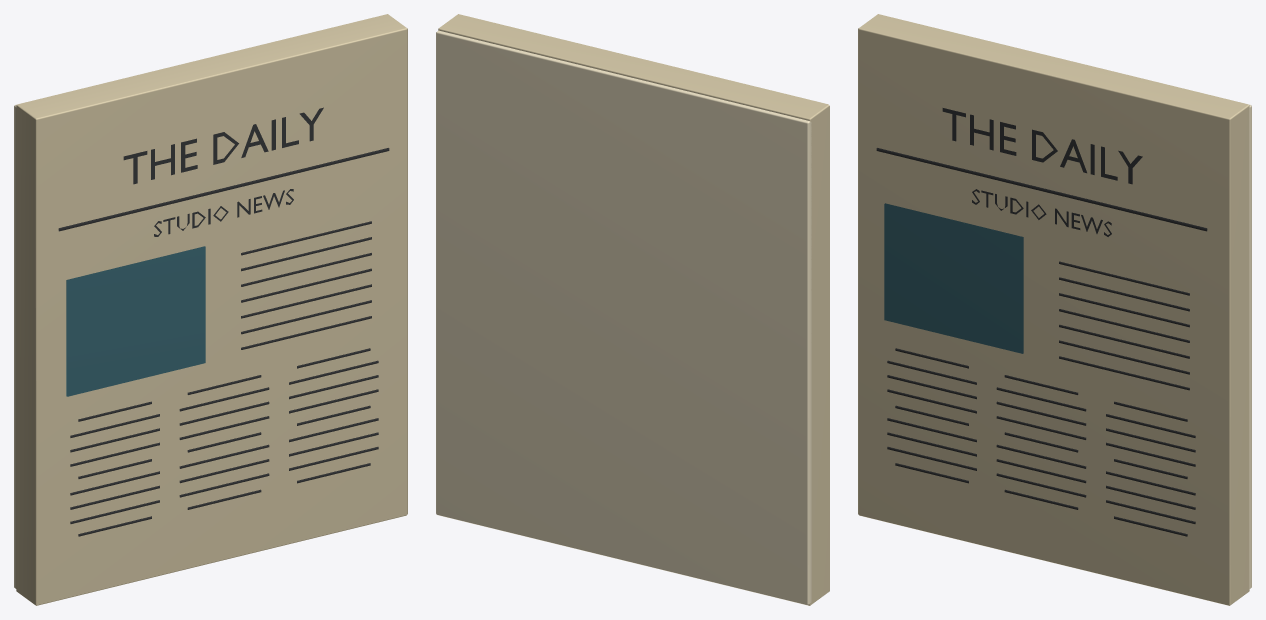
The model's file is P020_newspaper_rebuilt.glb.
3 views of the same model, side by side, from view 1: azimuth 30°, elevation 25°; view 2: azimuth 150°, elevation 25°; view 3: azimuth 330°, elevation 25° (orthographic).
Visible parts, largest first — view 1: paper, blue, ink, cream; view 2: cream, paper; view 3: paper, blue, ink, cream.
Boxes of the visible parts, box(x1,y1,x2,y2) form: paper: box(16, 14, 407, 605); blue: box(66, 246, 205, 396); ink: box(58, 107, 389, 536); cream: box(14, 104, 16, 588); cream: box(436, 30, 811, 605); paper: box(438, 14, 829, 605); paper: box(858, 14, 1249, 605); blue: box(884, 203, 1023, 353); ink: box(876, 108, 1207, 536); cream: box(1249, 104, 1251, 588).
Bounding box in the file's own units: 0.28 × 0.35 × 0.0325.
